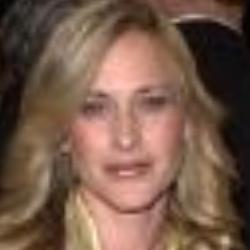face: (19, 3, 238, 226)
